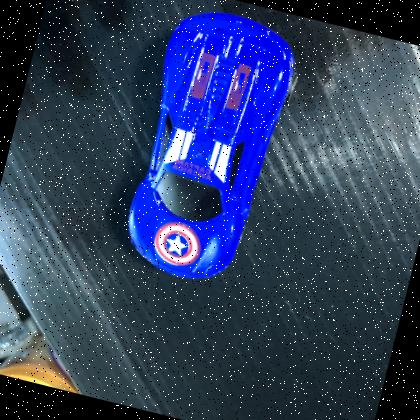Car: (106, 0, 316, 300)
